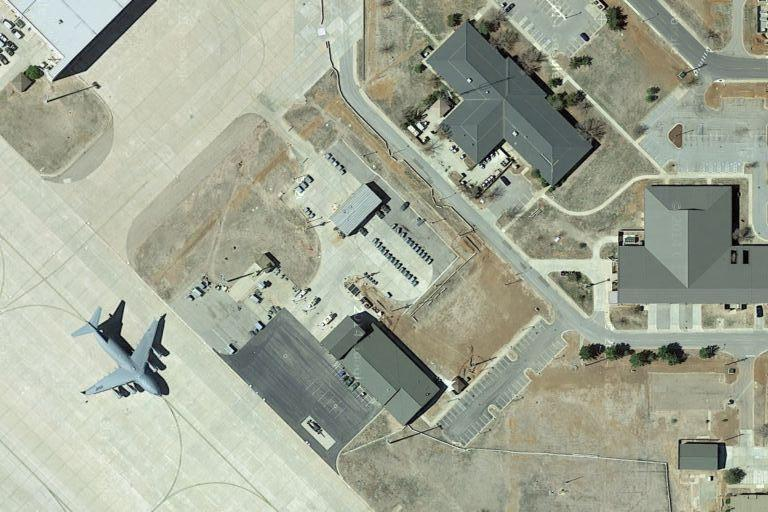C-17: (69, 298, 171, 406)
